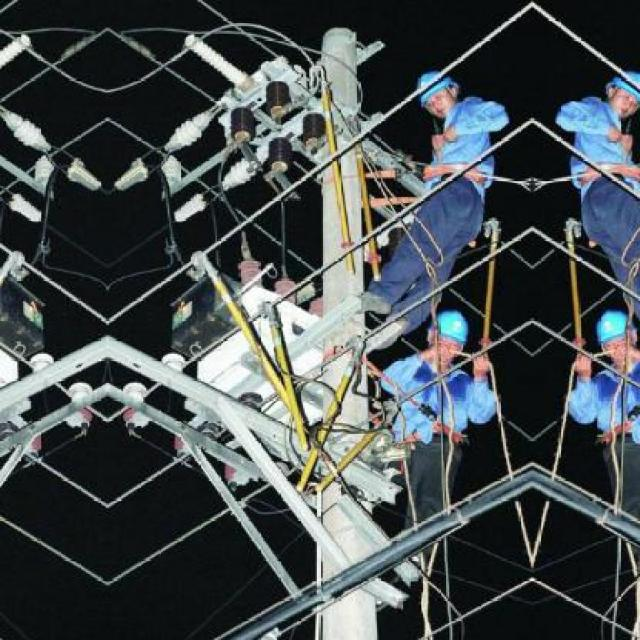Helmet: (412, 68, 463, 120), (598, 67, 638, 121), (436, 305, 470, 357), (592, 305, 626, 357)
